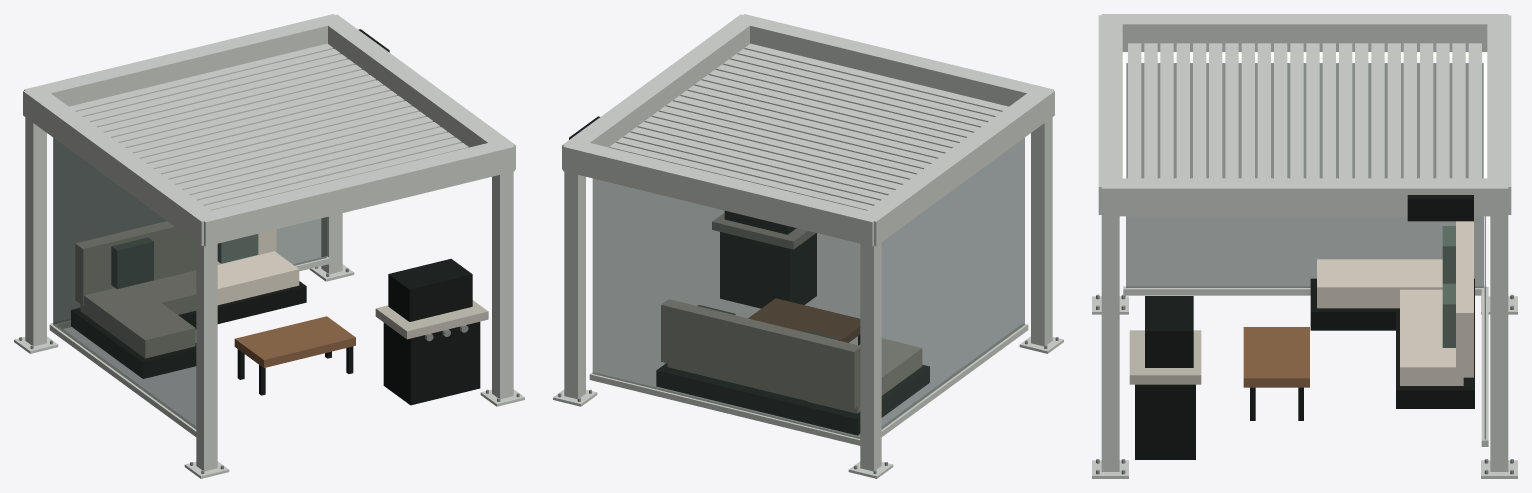
Rendered from coordinatez-axis-10x10-cloud.glb.
3 views of the same model, side by side, from view 1: azimuth 30°, elevation 25°; view 2: azimuth 150°, elevation 25°; view 3: azimuth 270°, elevation 25° (orthographic). The views are drawn at different scales.
Parts seen in each view (by area): view 1: Left motorized wall, Structural post (×4), Front motor beam, Rear motorized wall, Rear drainage beam, Left beam, BBQ cabinet, Right beam, Chaise cushion, Sofa back, Sofa seat, BBQ hood (+27 smaller); view 2: Rear motorized wall, Left motorized wall, Structural post (×3), Sofa back, Rear drainage beam, Front motor beam, Left beam, Right beam, BBQ cabinet, Sofa base, Coffee table top, Rear wall bottom rail (+26 smaller); view 3: Left motorized wall, Right beam, Left beam, Structural post (×2), Chaise cushion, Sofa seat, BBQ cabinet, Front motor beam, Rear drainage beam, Coffee table top, BBQ hood, Sofa back (+33 smaller).
Part boxes in pixels (left/top/right/bottom): Left motorized wall: left=53, top=138, right=196, bottom=429; Structural post (×4): left=25, top=117, right=513, bottom=471; Front motor beam: left=195, top=139, right=514, bottom=246; Rear motorized wall: left=54, top=139, right=326, bottom=323; Rear drainage beam: left=24, top=14, right=343, bottom=106; Left beam: left=23, top=90, right=219, bottom=245; BBQ cabinet: left=383, top=321, right=480, bottom=405; Right beam: left=321, top=14, right=515, bottom=169; Chaise cushion: left=80, top=285, right=195, bottom=358; Sofa back: left=75, top=221, right=276, bottom=305; Sofa seat: left=137, top=251, right=299, bottom=314; BBQ hood: left=388, top=258, right=472, bottom=321; Rear motorized wall: left=592, top=178, right=860, bottom=438; Left motorized wall: left=881, top=138, right=1024, bottom=429; Structural post (×3): left=564, top=117, right=1052, bottom=471; Sofa back: left=661, top=299, right=859, bottom=408; Rear drainage beam: left=563, top=139, right=882, bottom=246; Front motor beam: left=734, top=14, right=1053, bottom=106; Left beam: left=860, top=90, right=1054, bottom=245; Right beam: left=562, top=14, right=757, bottom=169; BBQ cabinet: left=720, top=232, right=816, bottom=308; Sofa base: left=656, top=363, right=891, bottom=435; Coffee table top: left=748, top=298, right=859, bottom=342; Rear wall bottom rail: left=589, top=372, right=860, bottom=445; Left motorized wall: left=1126, top=63, right=1483, bottom=287; Right beam: left=1101, top=178, right=1508, bottom=216; Left beam: left=1101, top=14, right=1508, bottom=51; Structural post (×2): left=1101, top=216, right=1508, bottom=471; Chaise cushion: left=1317, top=259, right=1442, bottom=308; Sofa seat: left=1400, top=289, right=1463, bottom=385; BBQ cabinet: left=1135, top=384, right=1195, bottom=459; Front motor beam: left=1098, top=15, right=1122, bottom=214; Rear drainage beam: left=1487, top=15, right=1511, bottom=214; Coffee table top: left=1243, top=327, right=1309, bottom=387; BBQ hood: left=1145, top=296, right=1193, bottom=367; Sofa back: left=1456, top=221, right=1473, bottom=377.
Bounding box in the file's own units: 3.37 × 2.49 × 3.34.
